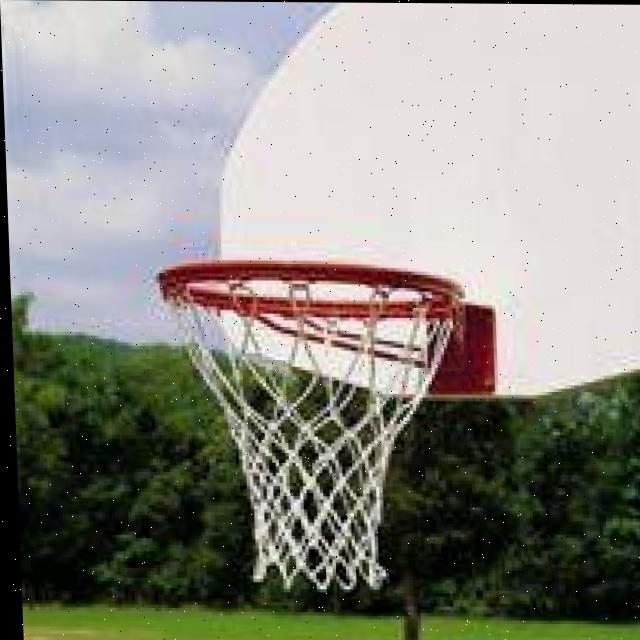hoop: (158, 259, 495, 596)
